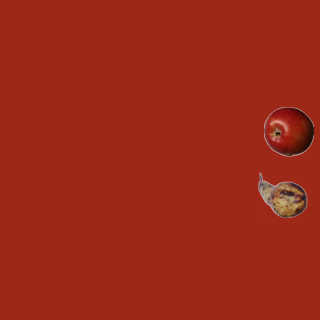Apple Braeburn: (263, 106, 313, 156)
Pear Abate: (257, 170, 307, 220)
